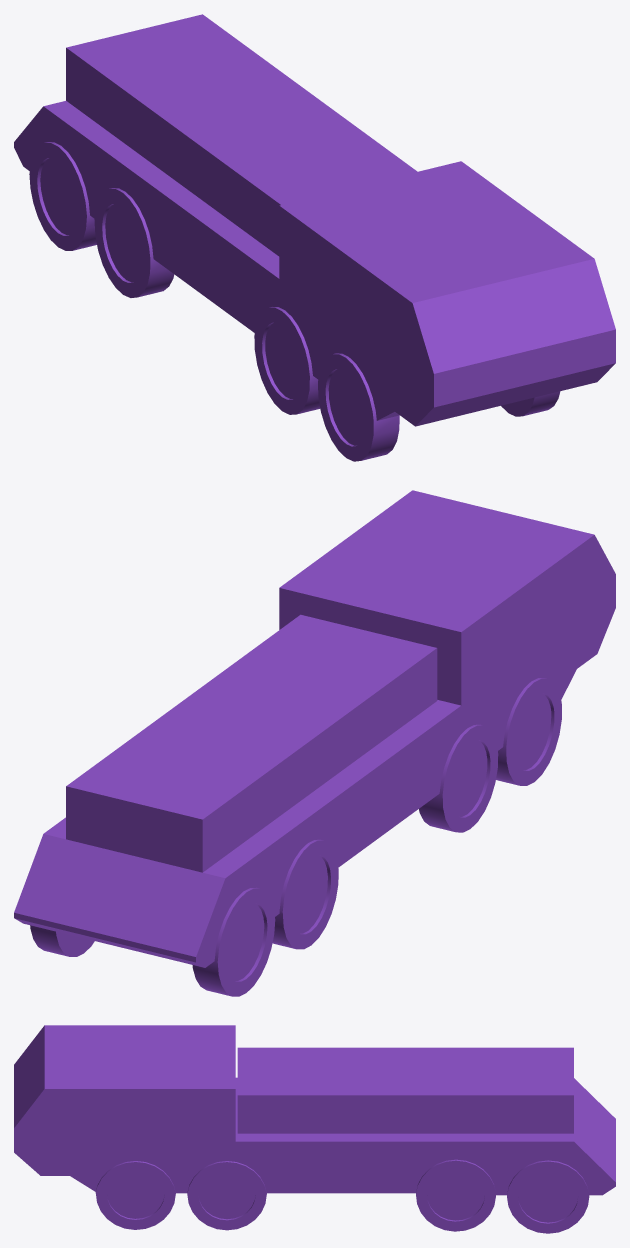
Rendered from Game_Piece_Troop_5_Purple_01.fbx.
3 views of the same model, one above another, from view 1: azimuth 30°, elevation 25°; view 2: azimuth 150°, elevation 25°; view 3: azimuth 270°, elevation 25° (orthographic). The views are drawn at different scales.
Parts seen in each view (by area): view 1: Model; view 2: Model; view 3: Model.
Part boxes in pixels (<box>): Model: <box>14,14,615,461</box>; Model: <box>14,490,615,996</box>; Model: <box>14,1025,615,1233</box>.
Size of the model in its own units: 336 by 342 by 1297.
